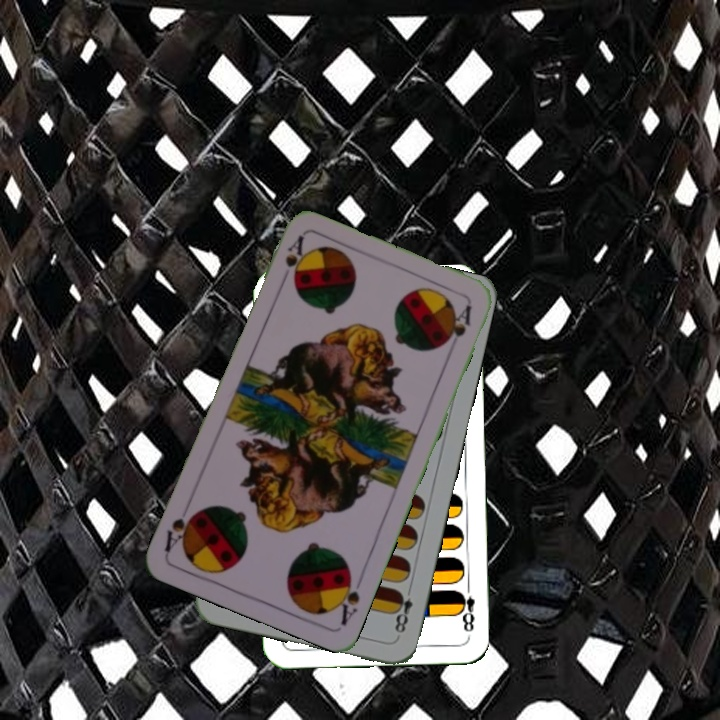E8: (389, 582, 415, 639), (454, 579, 478, 634)
SA: (331, 567, 363, 628), (276, 232, 307, 290)
